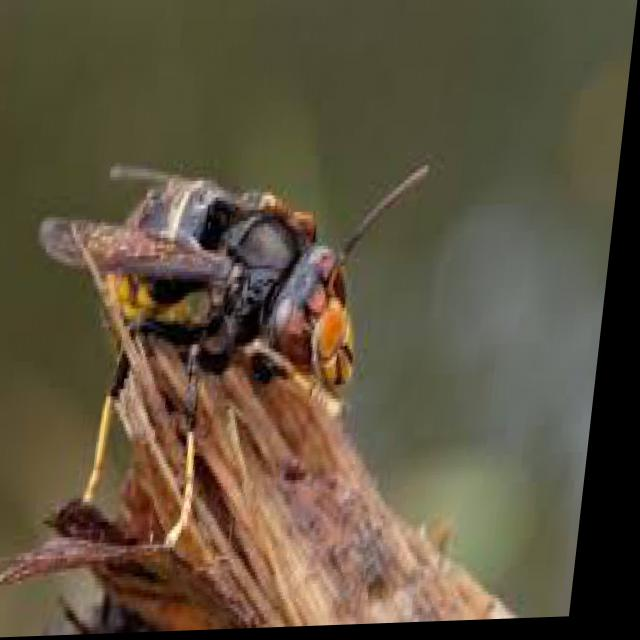Vespa Velutina: (0, 145, 441, 566)
